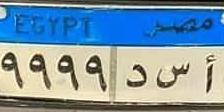9: (85, 54, 108, 93), (57, 55, 79, 89), (29, 54, 50, 89), (2, 53, 21, 89)
alif: (197, 53, 219, 94)
daal: (126, 62, 149, 88)
seen: (152, 63, 192, 90)
